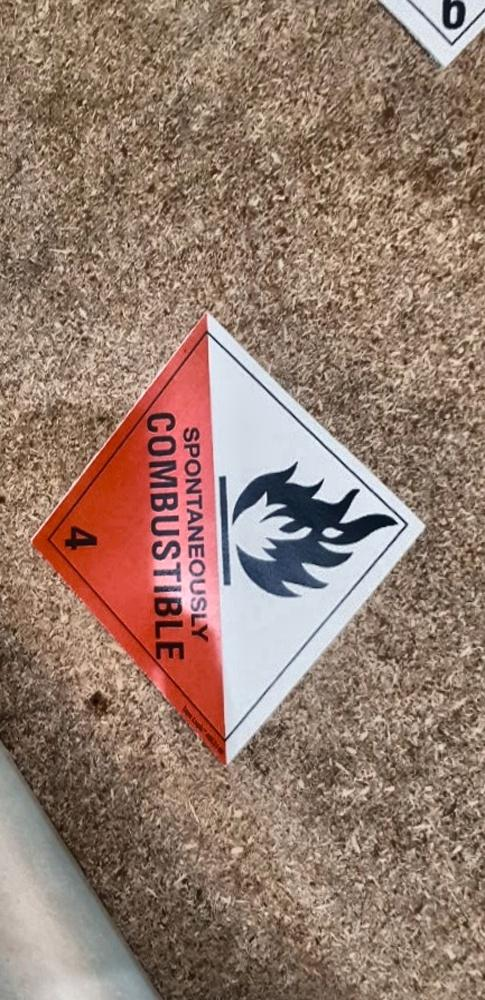infectious-substance: (256, 1, 485, 112)
spontaneously-combustible: (25, 279, 437, 790)
